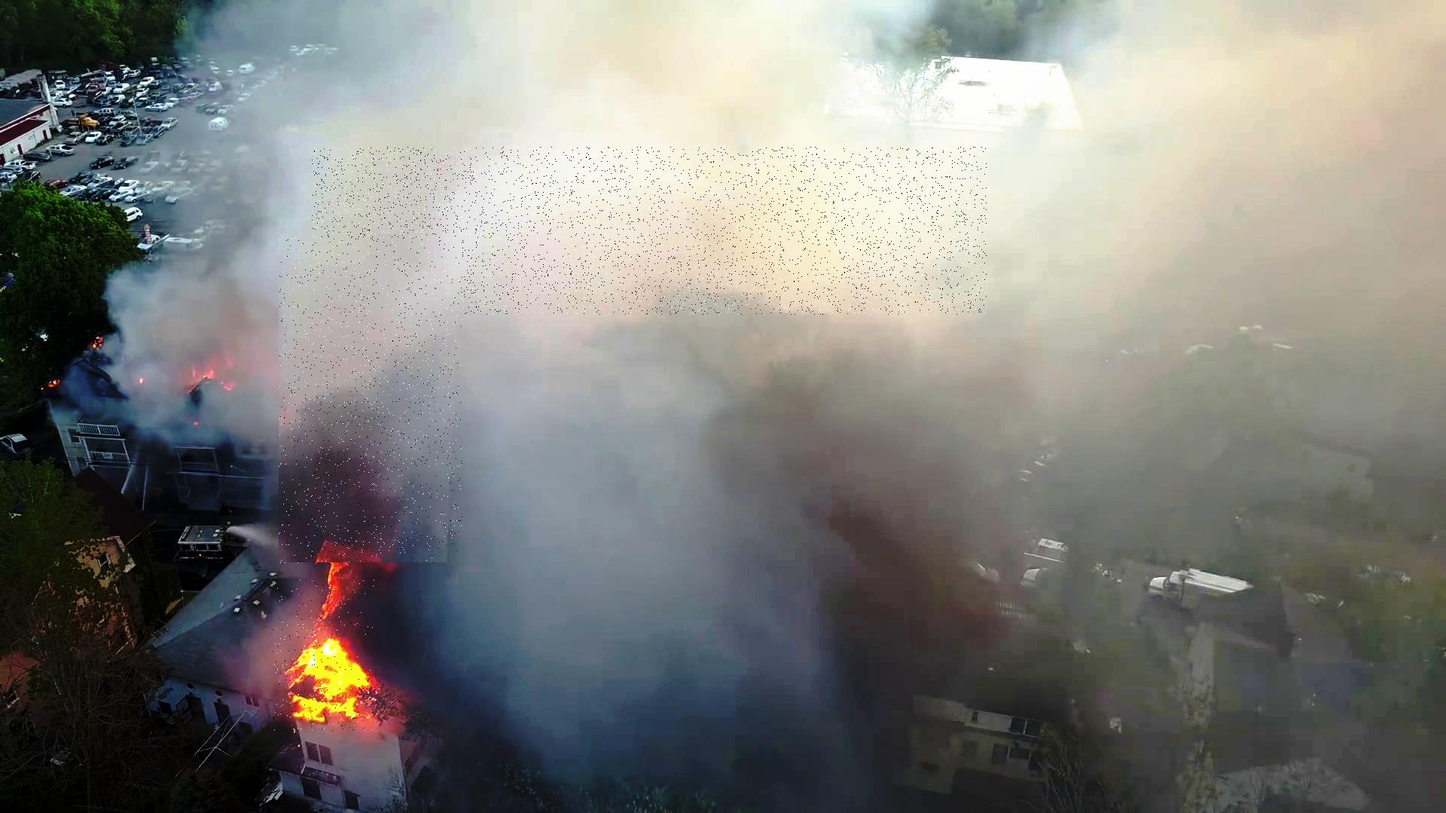fire: (273, 579, 374, 732)
smoke: (312, 147, 987, 315), (279, 239, 463, 565)
